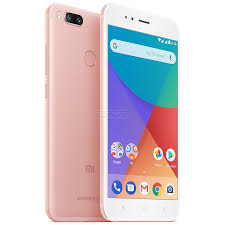mi: (98, 2, 181, 222), (42, 1, 101, 221)
